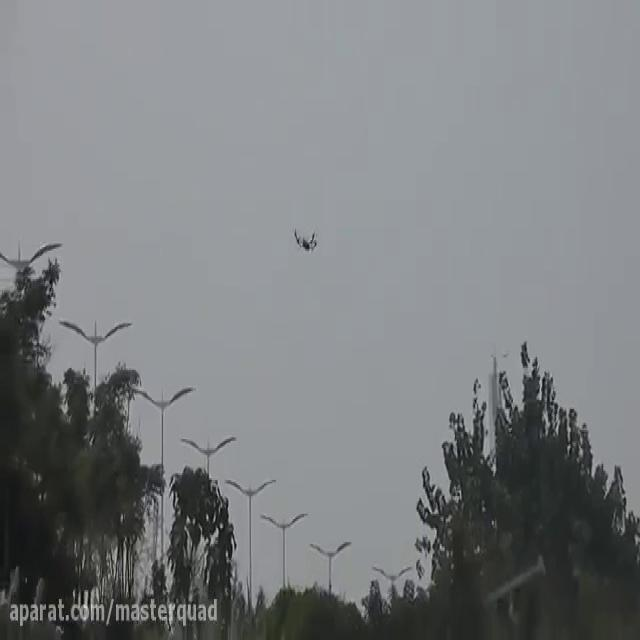drone: (289, 220, 320, 254)
